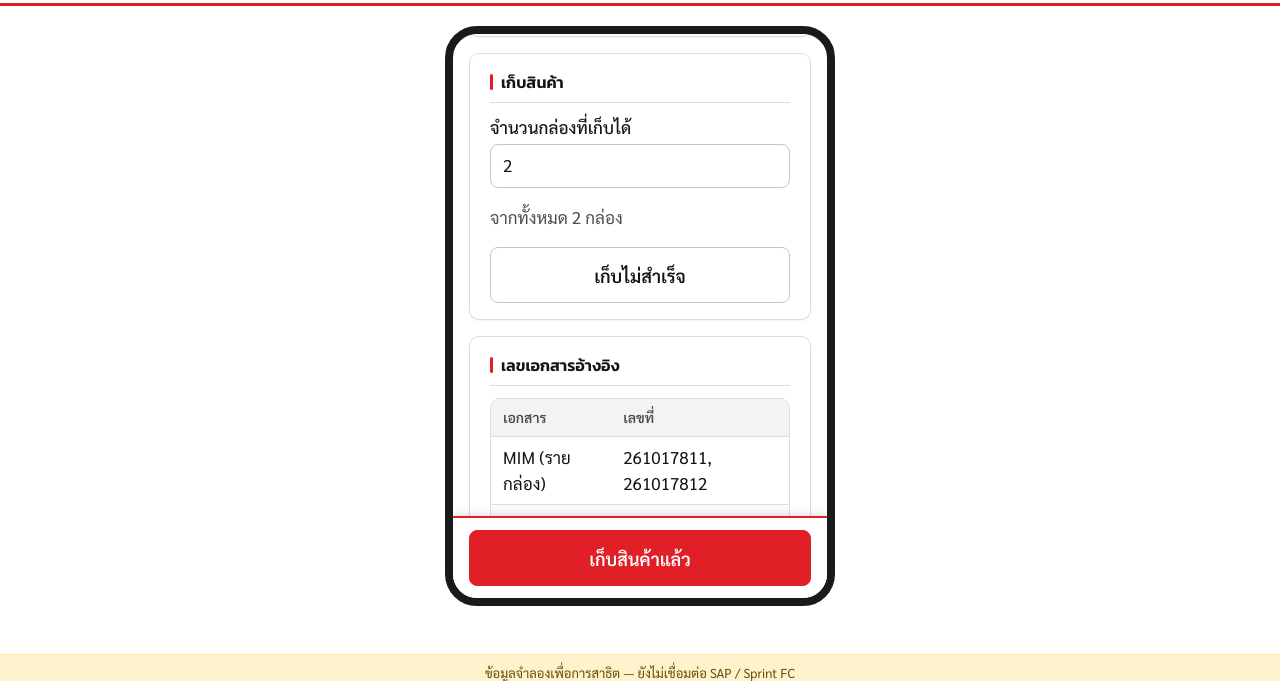
Test: failed pickup with a reason goes back to CS
This screenshot has width=1280, height=681.
(page scrolled)
Click the button "เก็บไม่สำเร็จ".
click(640, 275)  # box [490, 247, 790, 303]
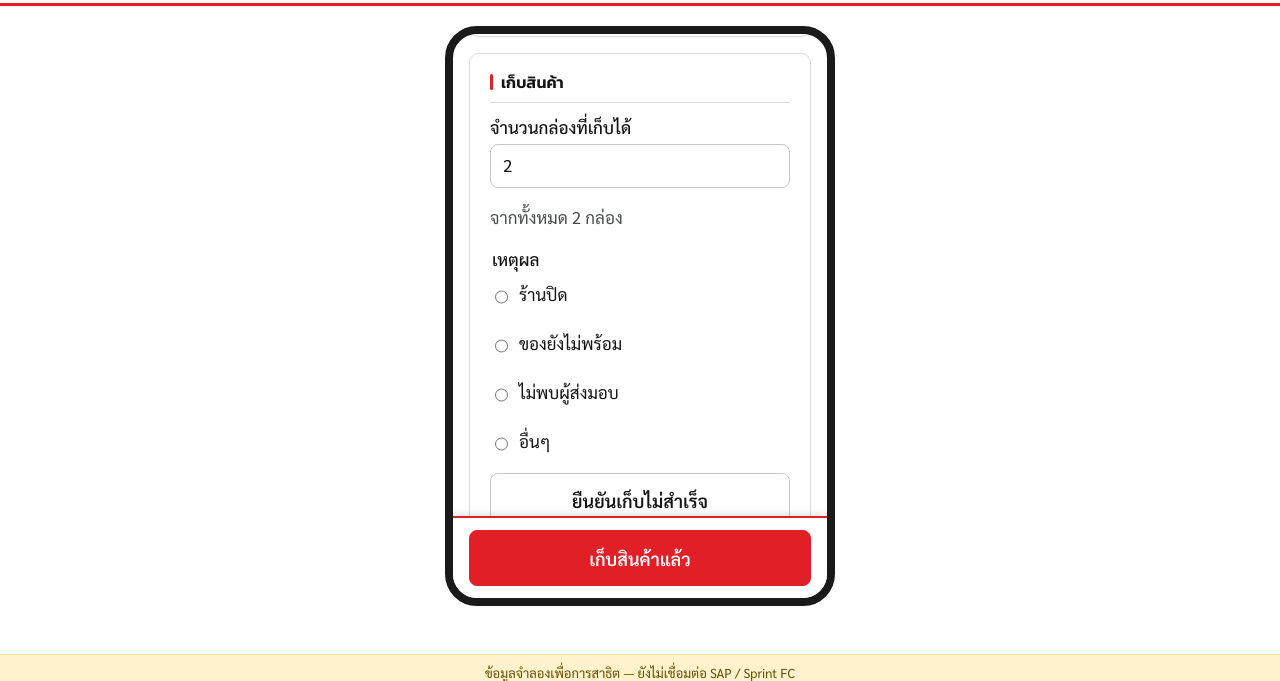
Click the radio button labelled "ร้านปิด".
click(502, 297)  # box [495, 276, 508, 318]
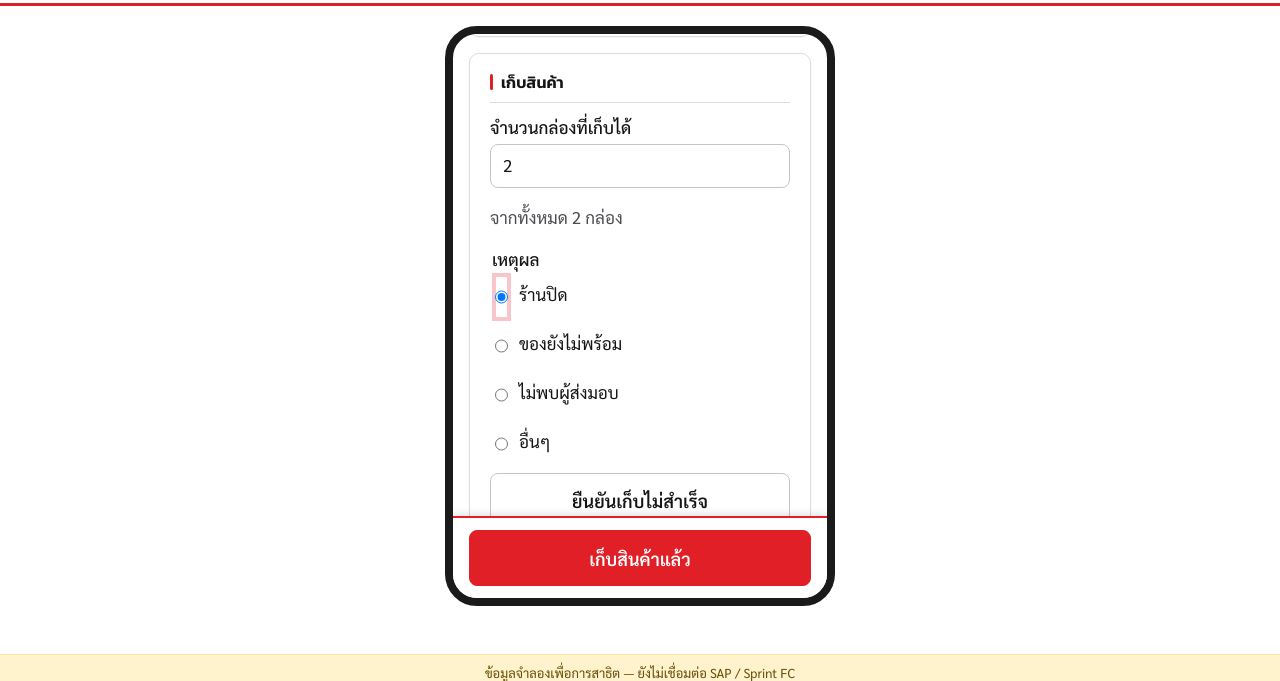
Click the button "ยืนยันเก็บไม่สำเร็จ".
click(640, 501)  # box [490, 473, 790, 529]
(page scrolled)
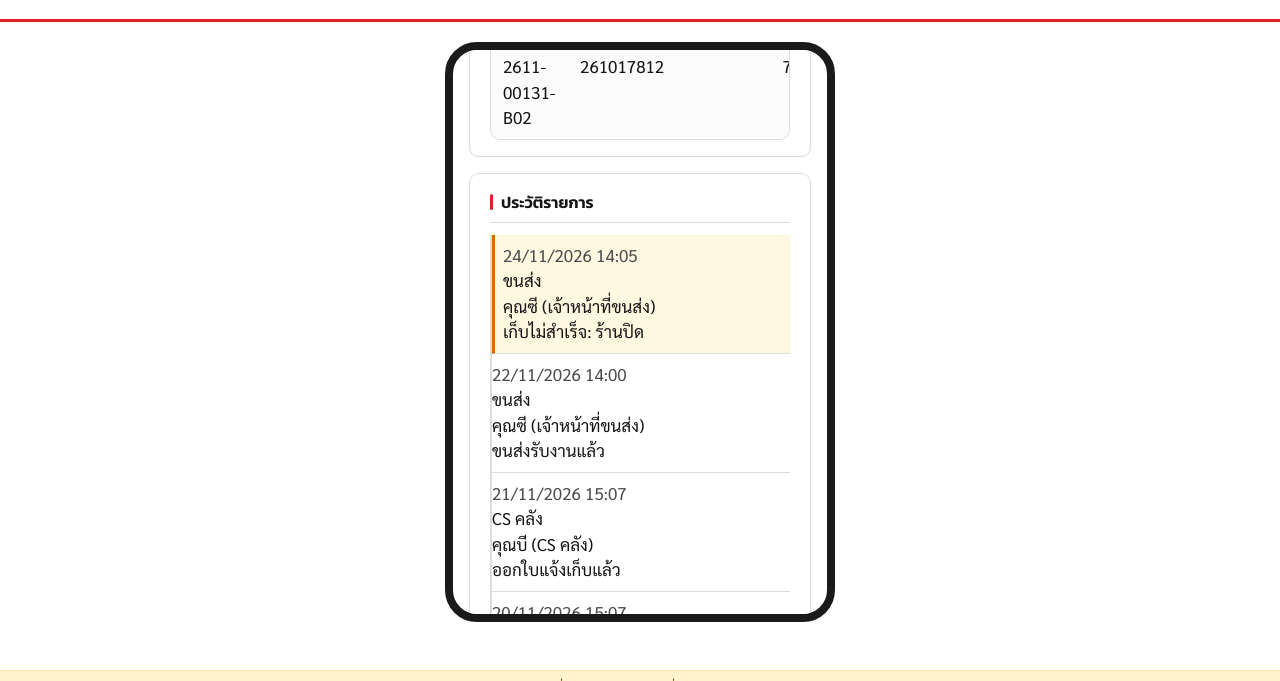
Check: the text "เก็บไม่สำเร็จ: ร้านปิด" is shown, box [503, 320, 644, 342]
